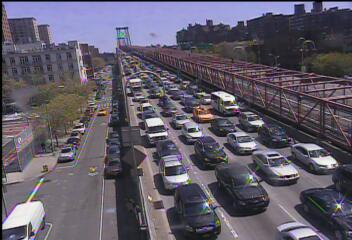neg: (105, 157, 121, 178), (59, 142, 74, 162), (110, 111, 122, 127), (74, 121, 84, 135)
pos: (37, 140, 47, 154)
